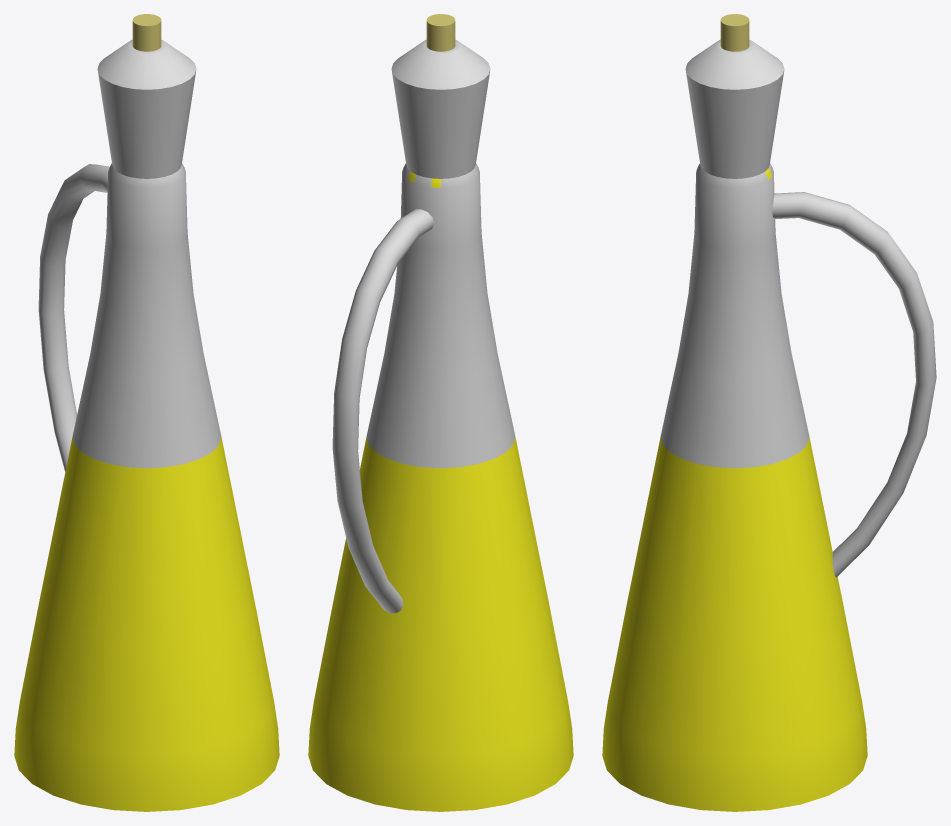
Rendered from oil_reduced.dae.
3 renders of one model, left to right at view 1: azimuth 30°, elevation 25°; view 2: azimuth 150°, elevation 25°; view 3: azimuth 270°, elevation 25°, orthographic.
Parts seen in each view (by area): view 1: SketchUp_001; view 2: SketchUp_001; view 3: SketchUp_001.
Boxes of the visible parts, x1,y1,x2,y2 form: SketchUp_001: (14, 14, 279, 811); SketchUp_001: (308, 14, 573, 811); SketchUp_001: (602, 14, 936, 811).
Size of the model in its own units: 0.1461 by 0.1841 by 0.4471.
Materials: 3 (2 with a texture image).
